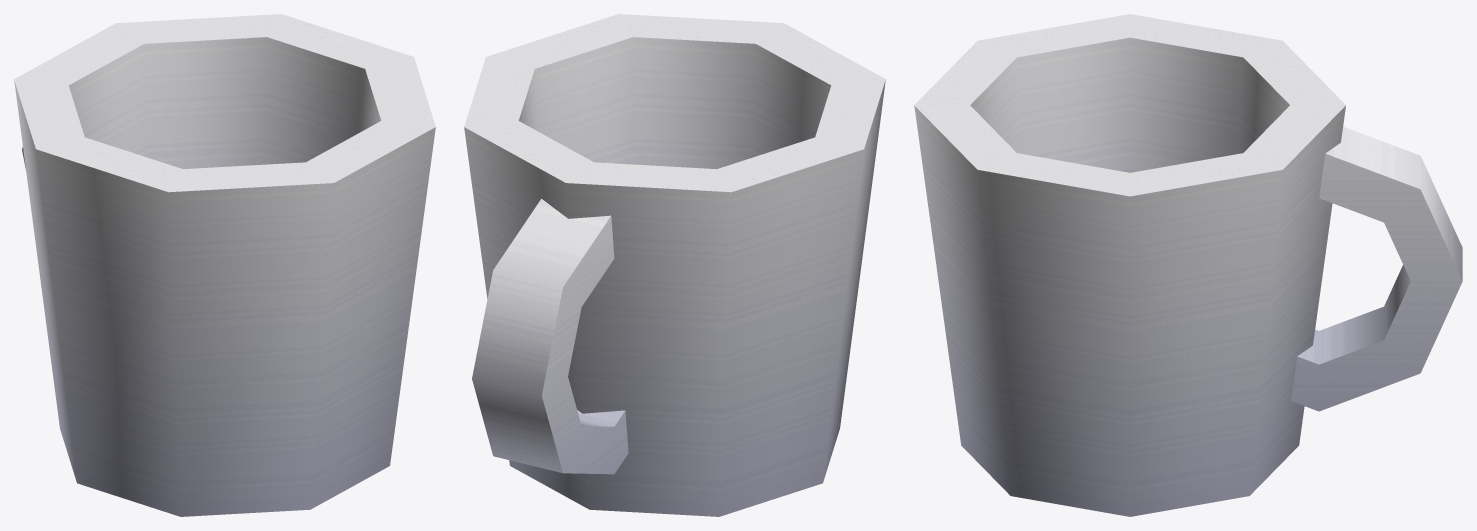
The model's file is cup.glb.
The picture shows the model from 3 angles, left to right: view 1: azimuth 30°, elevation 25°; view 2: azimuth 150°, elevation 25°; view 3: azimuth 270°, elevation 25°; orthographic projection.
Parts seen in each view (by area): view 1: cup; view 2: cup; view 3: cup.
Part boxes in pixels (x1,y1,x2,y2): cup: [14, 14, 435, 516]; cup: [464, 14, 885, 516]; cup: [914, 14, 1462, 516].
Bounding box in the file's own units: 0.23 × 0.2 × 0.2921.
Materials: 1 (1 with a texture image).
